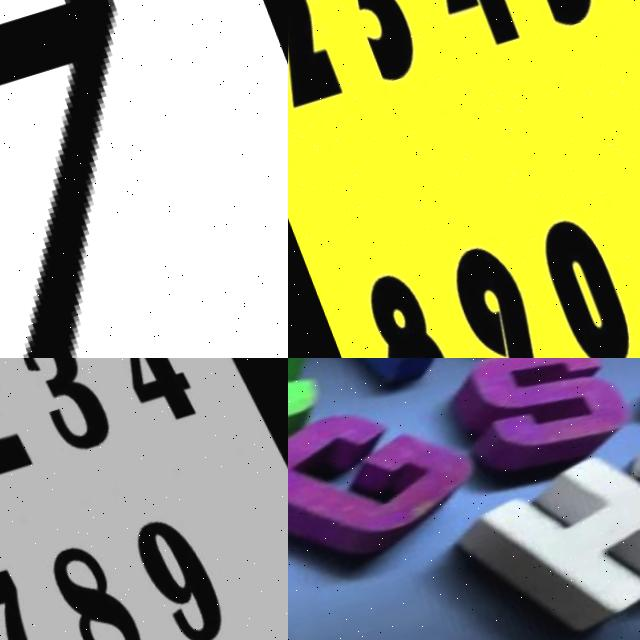0: (500, 172, 640, 358)
2: (288, 0, 350, 125), (0, 358, 43, 498)
3: (0, 358, 127, 473), (312, 0, 429, 96)
4: (79, 358, 211, 441), (393, 0, 520, 64)
5: (480, 0, 611, 43)
7: (0, 0, 288, 358), (0, 545, 72, 640)
8: (315, 227, 465, 358), (18, 508, 156, 640)
9: (106, 487, 244, 640), (414, 209, 552, 358)
G: (288, 384, 491, 597)
H: (415, 423, 640, 640)
S: (427, 358, 640, 490)
T: (288, 358, 475, 420)
Z: (604, 358, 640, 523)
